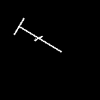double_crochet: (14, 18, 61, 51)
